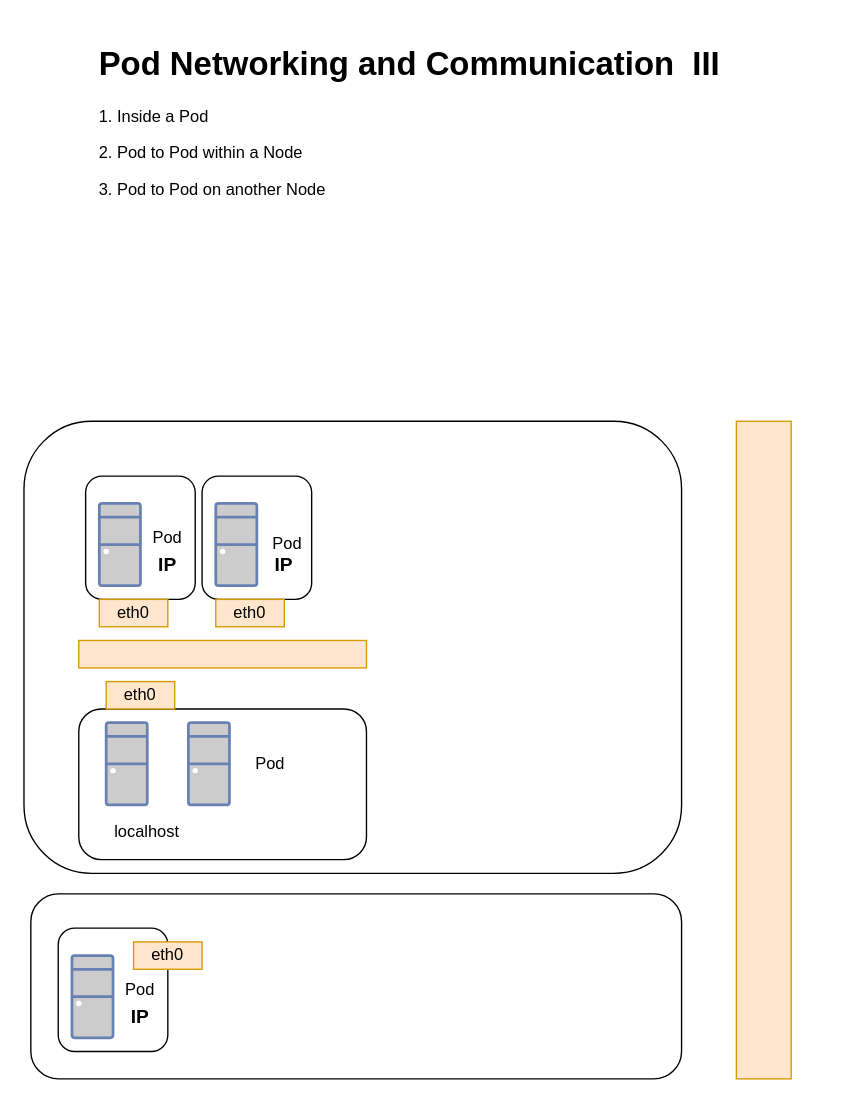
Image size: 843x1103. Some labels were removed from this diagram. The box of each missing label's shape, as (x1, y1, x2, y2) in pixels:
bridge/tunnel: (77, 639, 366, 668)
Layer 2/3 or Overlay: (735, 420, 791, 1079)
